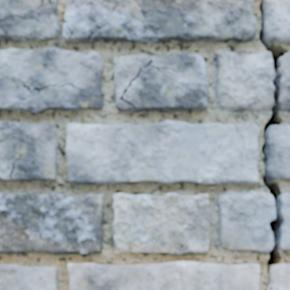brick: (67, 121, 258, 183), (63, 0, 256, 42), (0, 48, 103, 112), (0, 192, 103, 254), (113, 193, 210, 253), (114, 53, 207, 112), (68, 262, 258, 289), (0, 122, 56, 179), (0, 0, 59, 40), (0, 265, 56, 289), (266, 125, 289, 178), (262, 0, 289, 41), (267, 264, 289, 289), (52, 0, 56, 9)
broken_brick: (214, 49, 272, 112), (218, 190, 274, 252), (280, 54, 289, 112), (280, 192, 289, 250)
crack: (254, 2, 289, 287), (234, 124, 245, 158), (9, 153, 23, 179), (31, 0, 44, 13), (64, 19, 73, 37), (47, 0, 55, 13)
